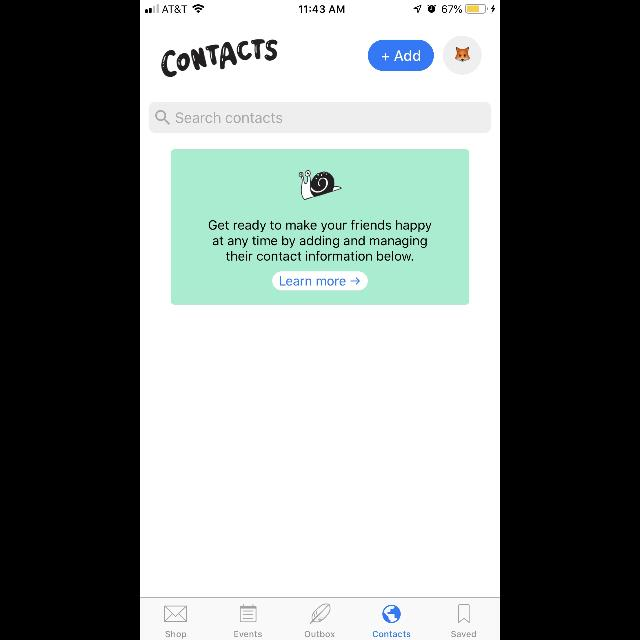icon: (165, 606, 188, 622), (240, 604, 256, 622), (156, 110, 170, 126), (458, 604, 469, 624)
image: (160, 39, 278, 77), (442, 36, 482, 76), (298, 170, 342, 200), (310, 604, 330, 624), (383, 605, 401, 623)
input: (149, 102, 491, 134)
text: (208, 220, 432, 262), (176, 112, 282, 124), (374, 631, 411, 637), (305, 631, 335, 637), (234, 631, 262, 637), (166, 631, 187, 639), (452, 631, 476, 637)
textbutton: (368, 40, 434, 72), (272, 272, 368, 290)
uppertaskbar: (140, 0, 500, 14)
